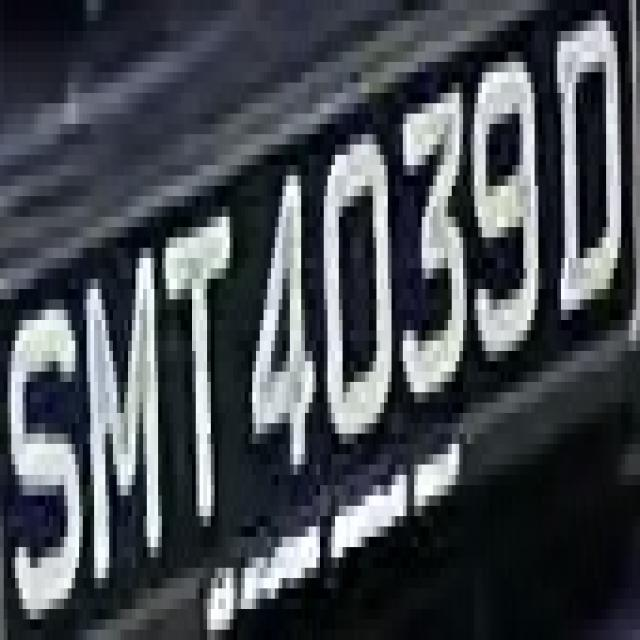0: (312, 103, 396, 465)
3: (392, 51, 463, 434)
4: (222, 134, 316, 496)
9: (467, 41, 538, 372)
D: (550, 21, 625, 330)
M: (79, 237, 169, 609)
S: (8, 268, 86, 630)
T: (139, 186, 241, 557)
